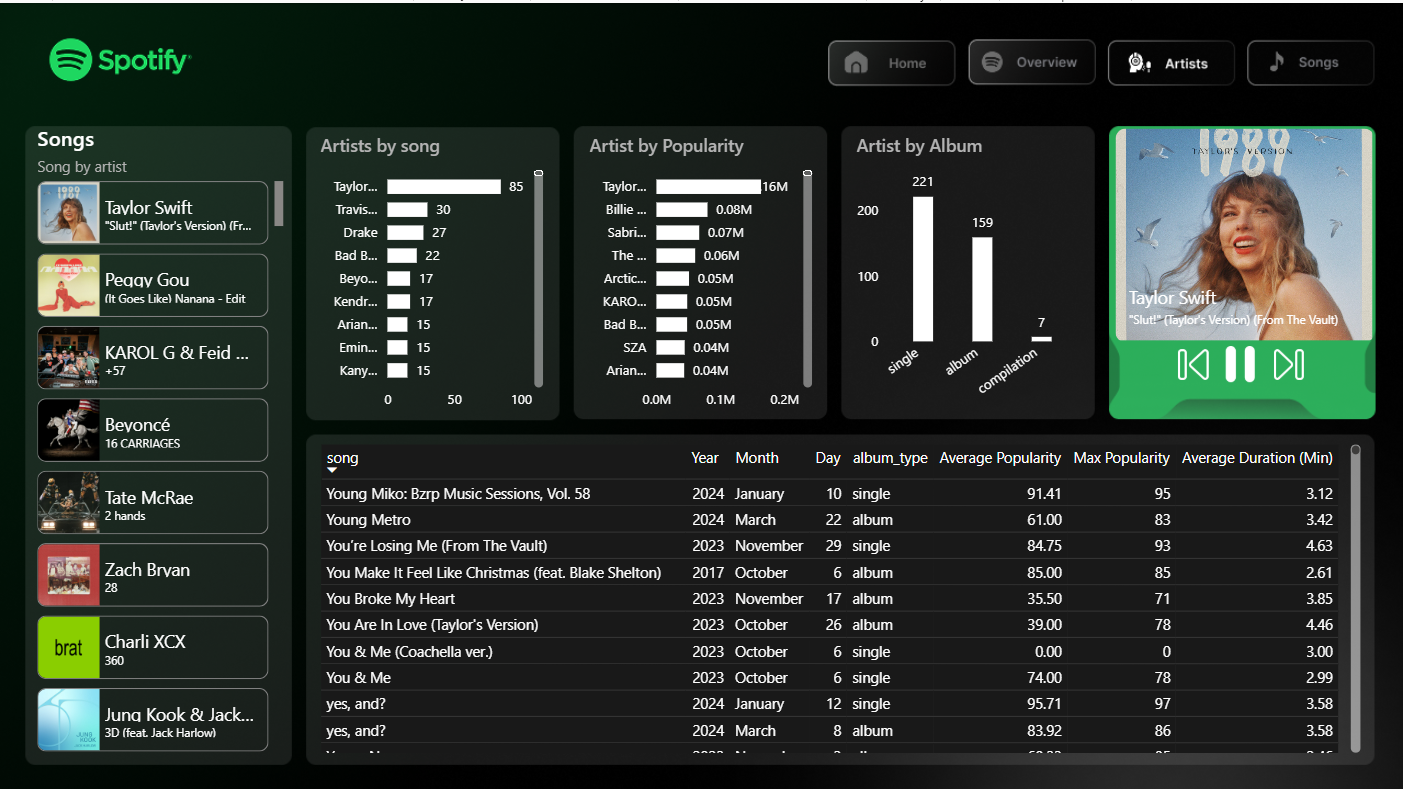

Layout of this report page (visuals, bound fields, positions):
{"tool":"powerbi","page":{"name":"Artist","canvas":[1280,720],"ordinal":2},"visuals":[{"type":"group","id":"g1","title":"Group 1","box":[754.2,31.2,503.7,46.7],"z":0},{"type":"actionButton","box":[754.2,31.2,118.1,46.7],"z":0,"group":"g1"},{"type":"image","box":[1103.4,312.3,56.8,33],"z":0,"group":"g2"},{"type":"actionButton","box":[882.7,31.2,118.1,46.7],"z":1000,"group":"g1"},{"type":"group","id":"g2","title":"Group 2","box":[991.8,61,288.2,284.3],"z":1000},{"type":"image","box":[1151.3,313.5,49.2,31.8],"z":1000,"group":"g2"},{"type":"actionButton","box":[1011.2,31.2,118.1,46.7],"z":2000,"group":"g1"},{"type":"image","box":[1064.3,313.5,47.9,31.8],"z":2000,"group":"g2"},{"type":"tableEx","fields":{"Values":["Top-50-World.song","Top-50-World.release_date.Variation.Date Hierarchy.Year","Top-50-World.release_date.Variation.Date Hierarchy.Month","Top-50-World.release_date.Variation.Date Hierarchy.Day","Top-50-World.album_type","_Measures.Average Popularity","_Measures.Max Popularity","_Measures.Average Duration (Min)"]},"box":[288.2,397.2,958.1,290.8],"z":2000},{"type":"actionButton","box":[1139.8,31.2,118.1,46.7],"z":3000,"group":"g1"},{"type":"shape","box":[1032.7,61,247.3,283.5],"z":3000,"group":"g2"},{"type":"columnChart","title":"Artist by Album ","fields":{"Category":["Top-50-World.album_type"],"Y":["_Measures.Distinct Artists"]},"box":[776.3,118.1,212.9,260.9],"z":5000},{"type":"advancedSlicerVisual","title":"Songs","fields":{"Values":["Top-50-World.song"]},"box":[29.9,110.3,235,579],"z":6000},{"type":"barChart","title":"Artists by song","fields":{"Category":["Top-50-World.artist"],"Y":["_Measures.Distinct Songs"]},"box":[288.2,118.1,212.9,260.9],"z":6001},{"type":"barChart","title":"Artist by Popularity","fields":{"Y":["Sum(Top-50-World.popularity)"],"Category":["Top-50-World.artist"]},"box":[533.5,118.1,212.9,260.9],"z":6002},{"type":"advancedSlicerVisual","title":"Songs","fields":{"Values":["Top-50-World.song"]},"box":[991.8,108.6,286.3,205.1],"z":18000,"group":"g2"}]}

Visuals, with their boxes in screenshot pixels (x1, y1, x2, y2), scaled from the page's 1280x720 canvas onto the 1403x789 screenshot:
"Group 1" group: l=827, t=34, r=1379, b=85
actionButton: l=827, t=34, r=956, b=85
image: l=1209, t=342, r=1272, b=378
actionButton: l=968, t=34, r=1097, b=85
"Group 2" group: l=1087, t=67, r=1402, b=378
image: l=1262, t=344, r=1316, b=378
actionButton: l=1108, t=34, r=1238, b=85
image: l=1167, t=344, r=1219, b=378
tableEx - Top-50-World.song x Top-50-World.release_date.Variation.Date Hierarchy.Year: l=316, t=435, r=1366, b=754
actionButton: l=1249, t=34, r=1379, b=85
shape: l=1132, t=67, r=1402, b=378
"Artist by Album " columnChart: l=851, t=129, r=1084, b=415
"Songs" advancedSlicerVisual: l=33, t=121, r=290, b=755
"Artists by song" barChart: l=316, t=129, r=549, b=415
"Artist by Popularity" barChart: l=585, t=129, r=818, b=415
"Songs" advancedSlicerVisual: l=1087, t=119, r=1401, b=344
